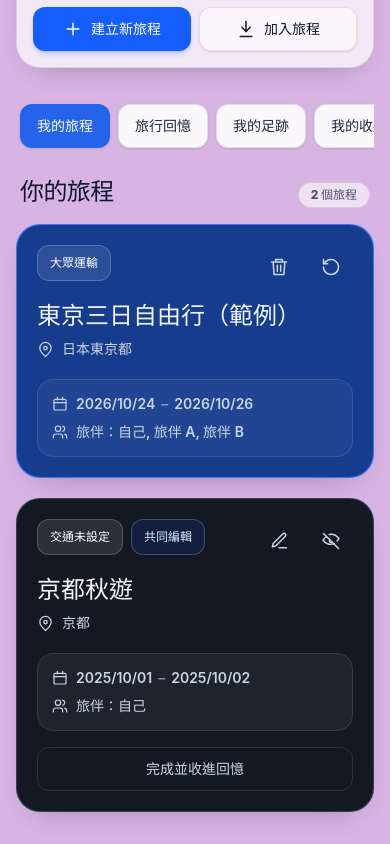
Scenario: home and private travel journal integration › keeps the trip visible when quick archive persistence fails
(page scrolled)
Click the button "完成並收進回憶".
click(195, 769)  # box [37,747,353,791]
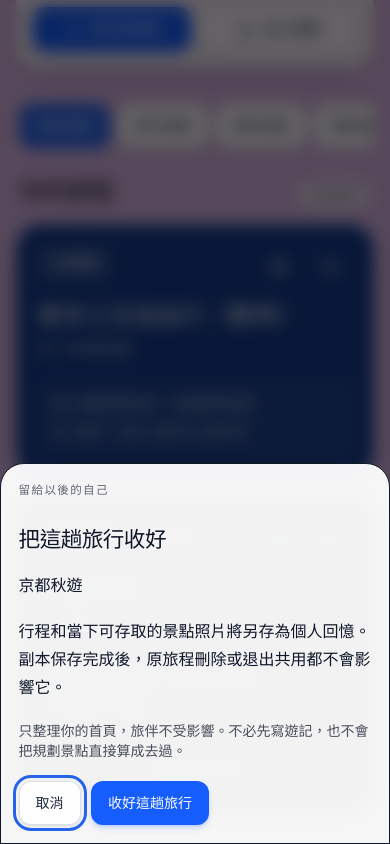
Click the button "收好這趟旅行".
click(150, 803)  # box [91,781,209,825]
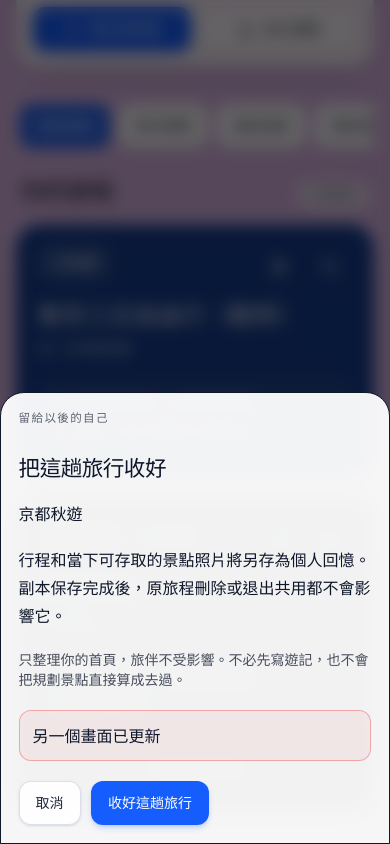
Check: the element with test id "trip-card" is shown, box [16,498,374,812]
Check: the message reads "另一個畫面已更新", box [32,726,160,746]
